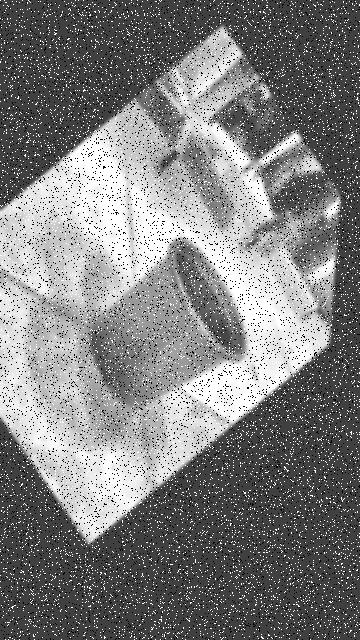pot: (89, 238, 247, 407)
